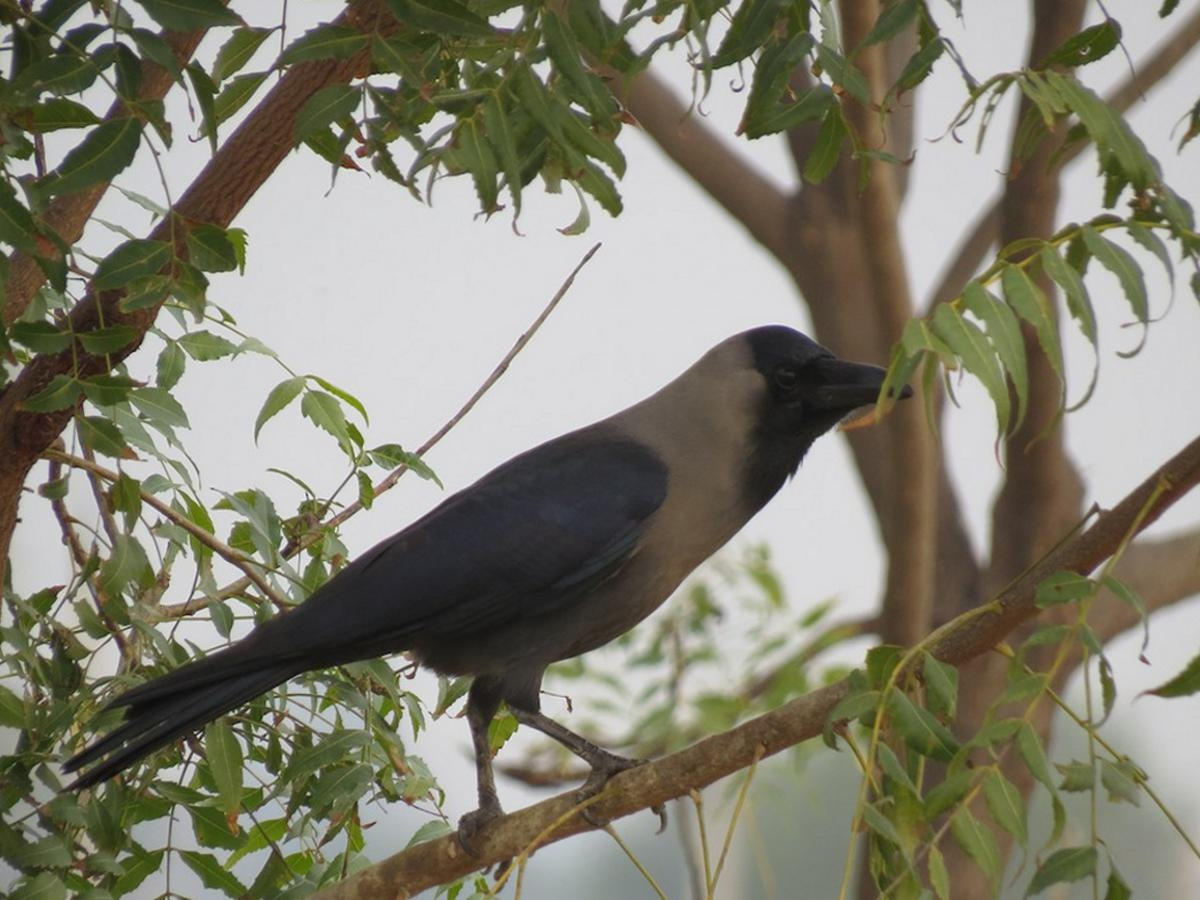crow: (40, 315, 911, 845)
